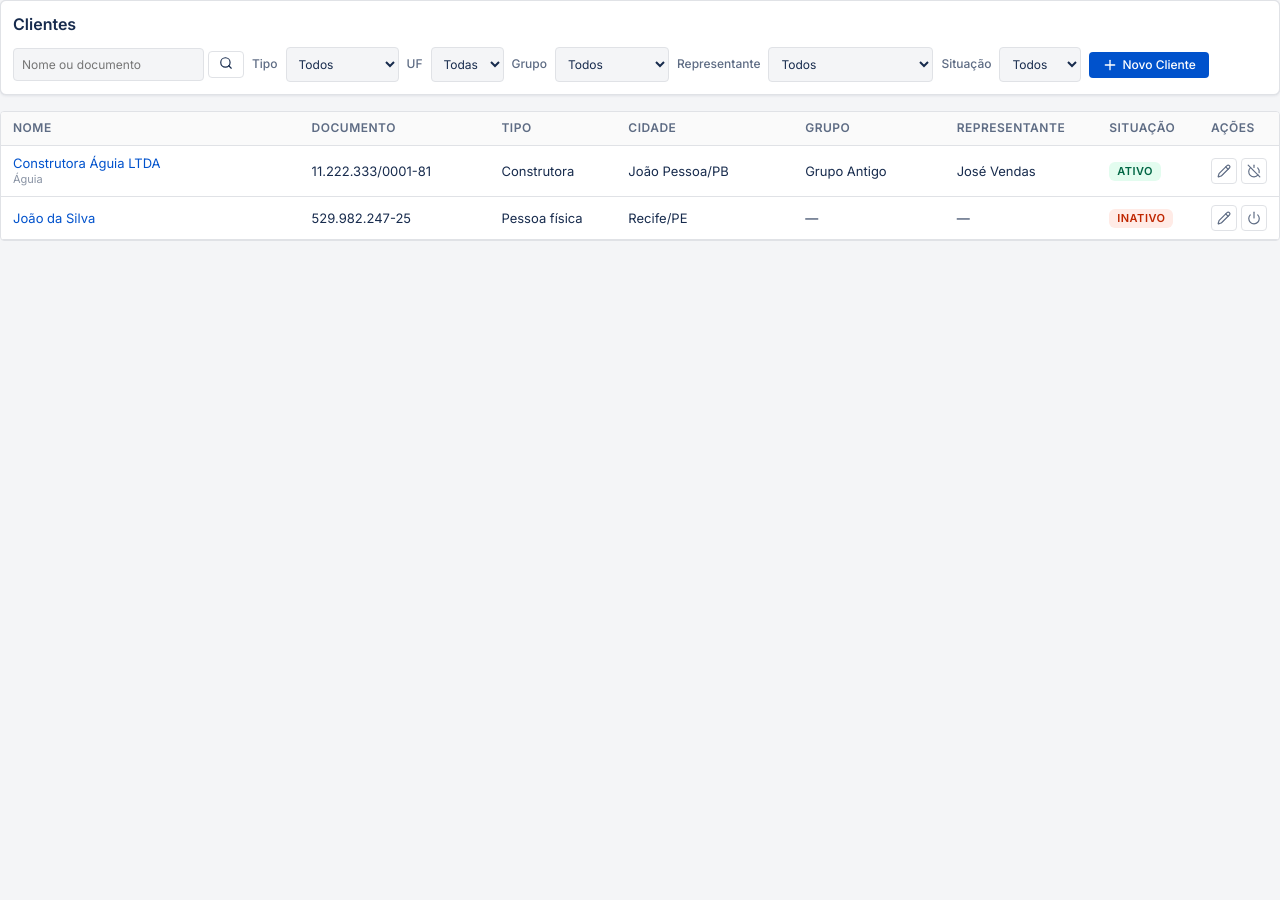
it: Clientes › mostra o documento repetido como erro do formulário sem perder o que foi digitado
Expected: the link "Construtora Águia LTDA" is shown, [13,155,161,171]
Click the button "Novo Cliente" at (1149, 65), box [1090,52,1209,78]
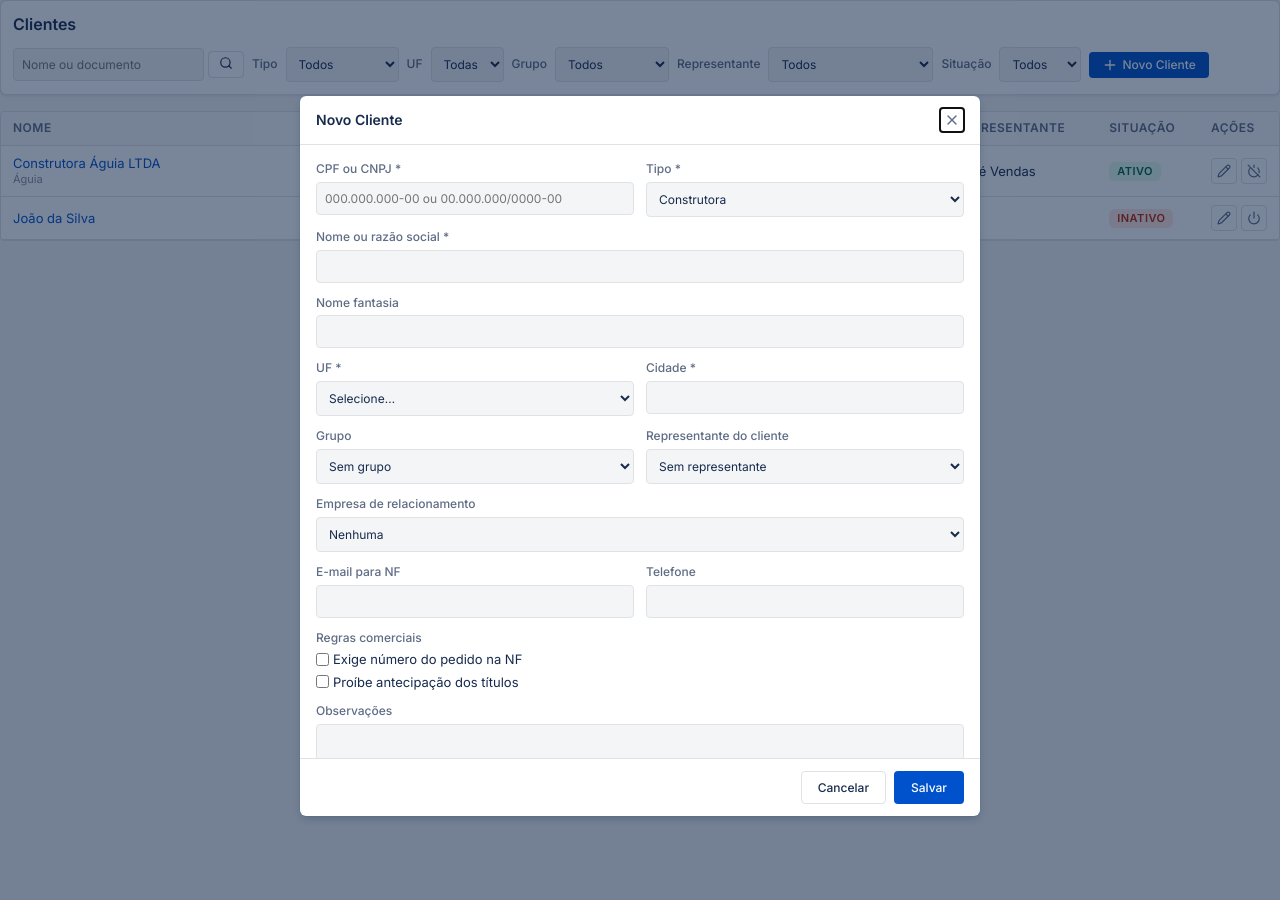
Type "11222333000181" into the field labelled "CPF ou CNPJ *" at (475, 198), box [316,182,634,215]
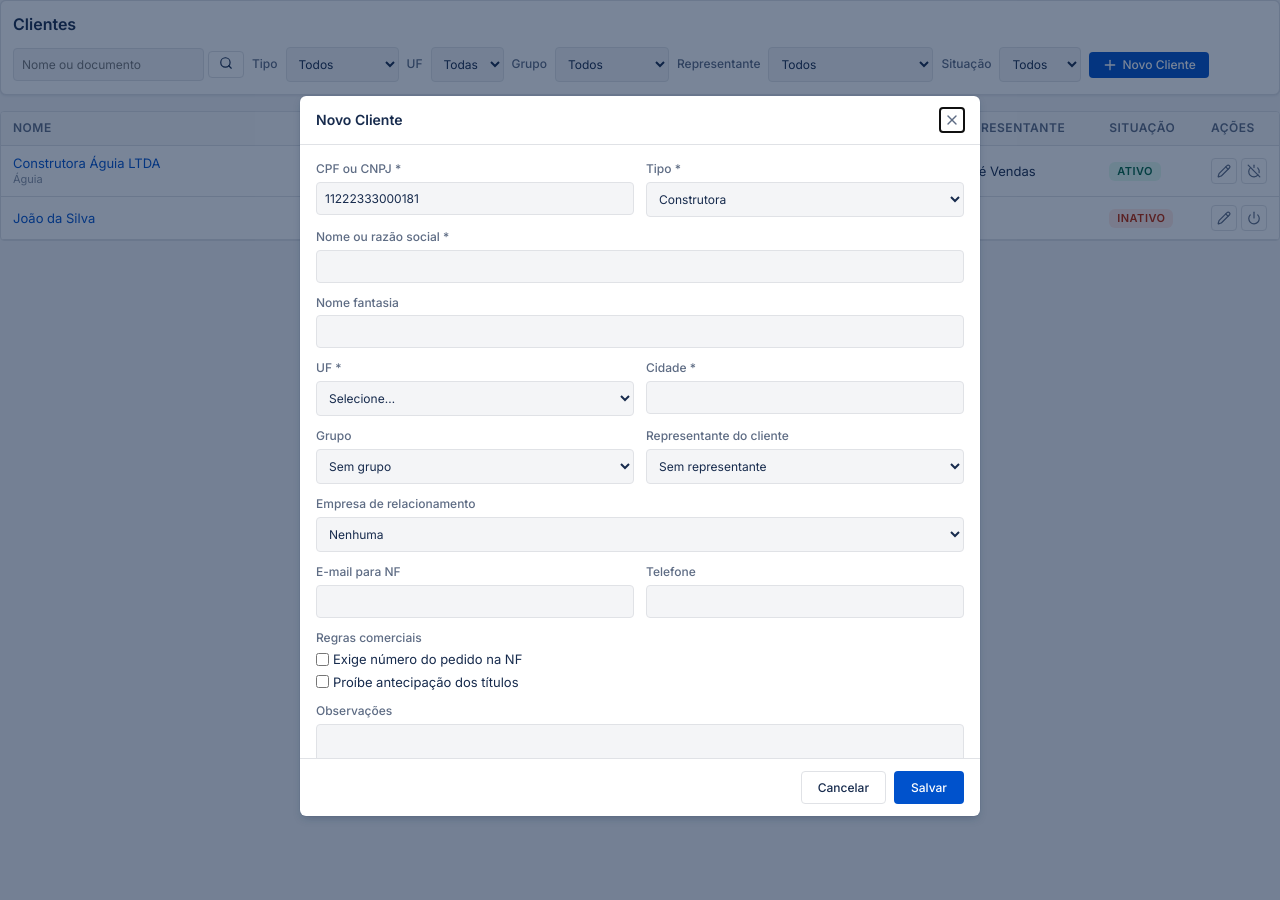
Type "Águia" into the field labelled "Nome ou razão social *" at (640, 266), box [316,250,964,283]
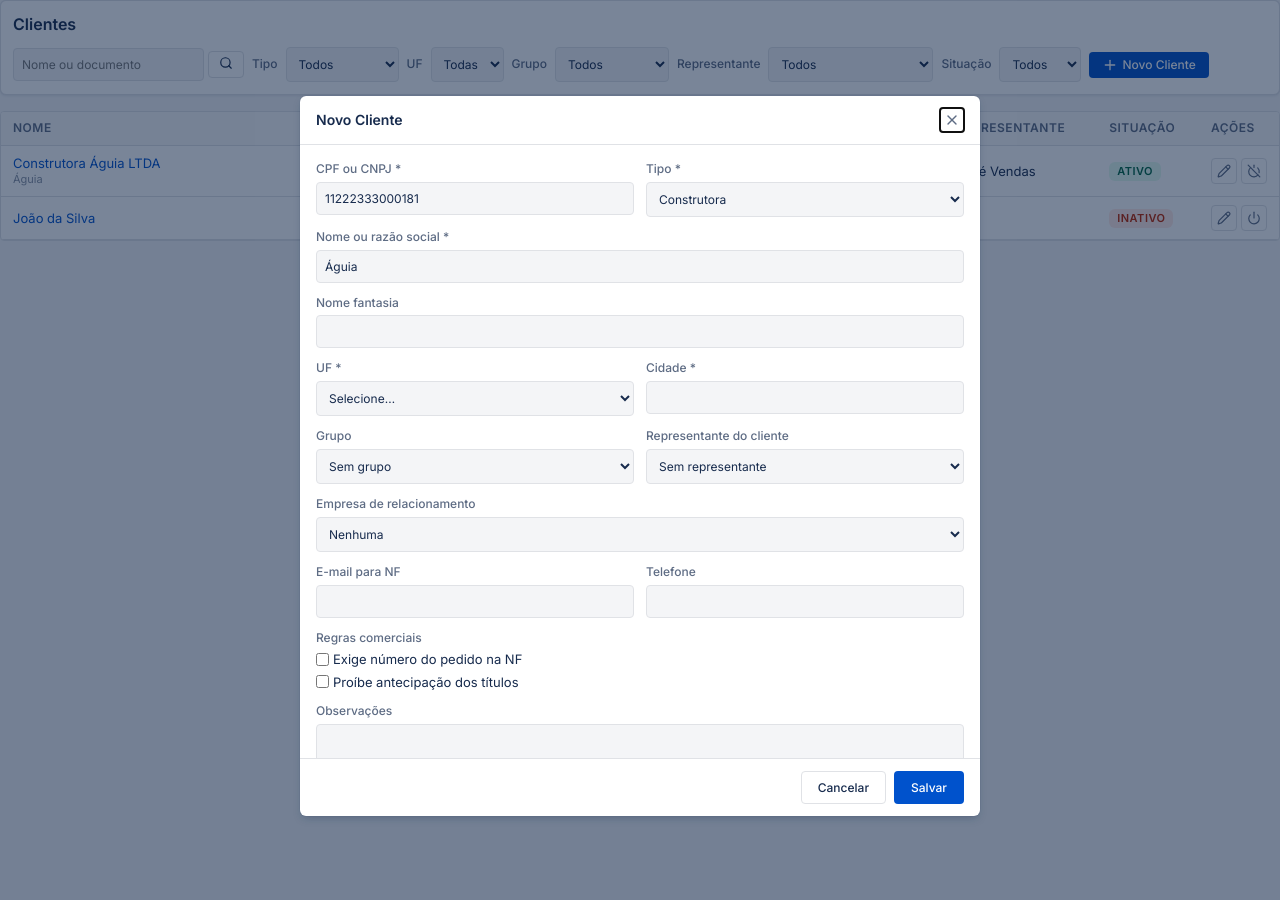
Select "PB" in the dropdown labelled "UF *" at (475, 399), box [316,381,634,416]
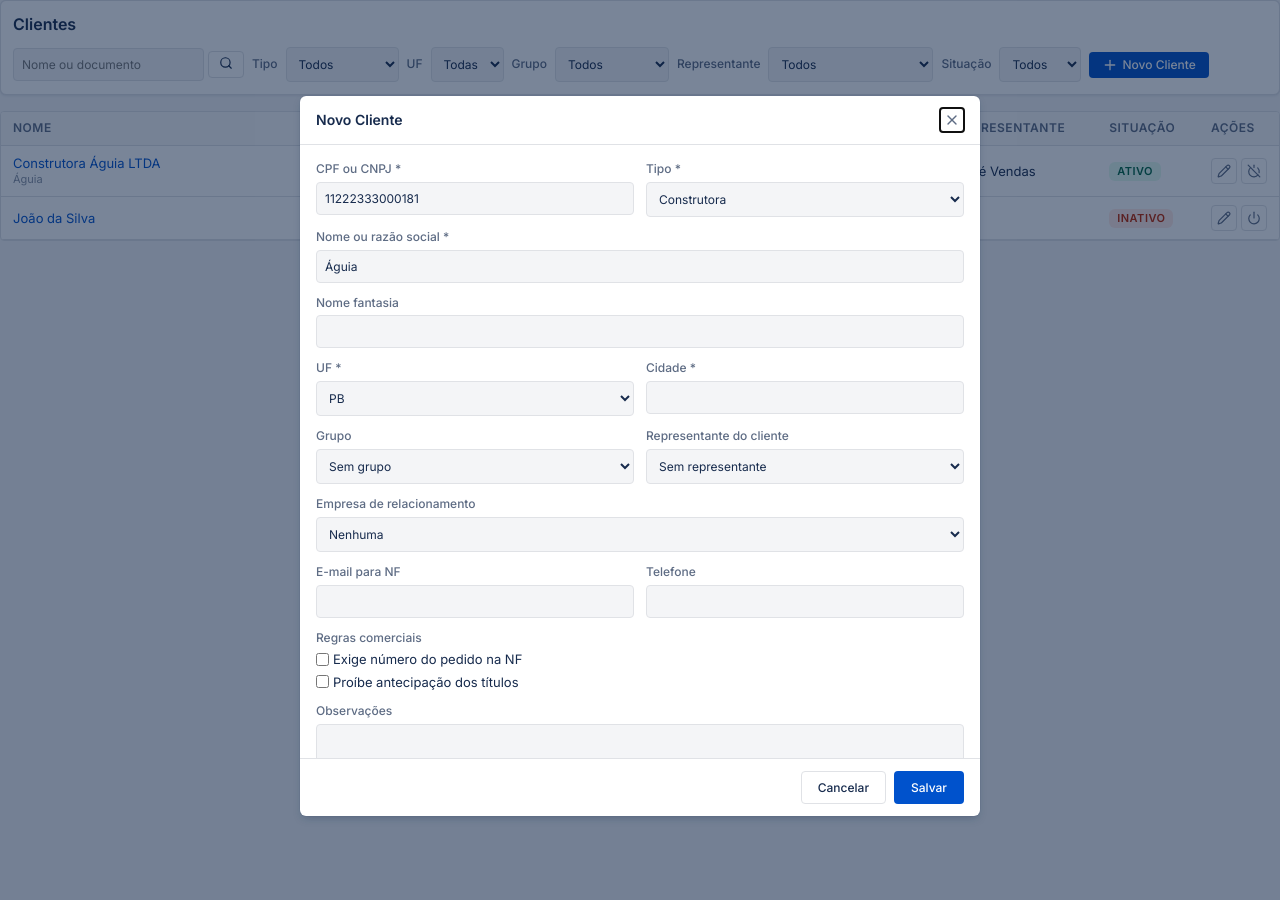
Type "João Pessoa" into the field labelled "Cidade *" at (805, 398), box [646,381,964,414]
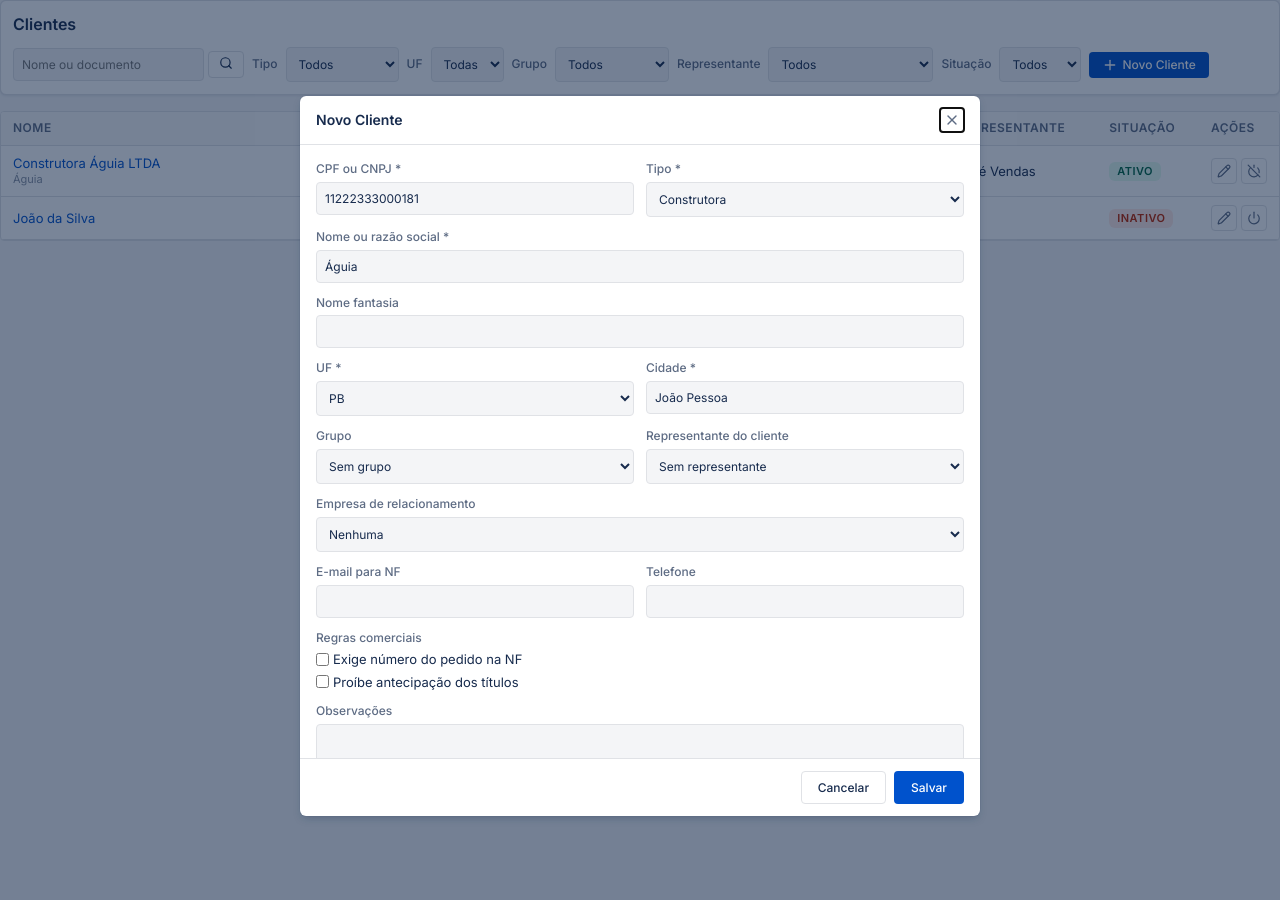
Click the button "Salvar" at (929, 788), box [894,771,964,804]
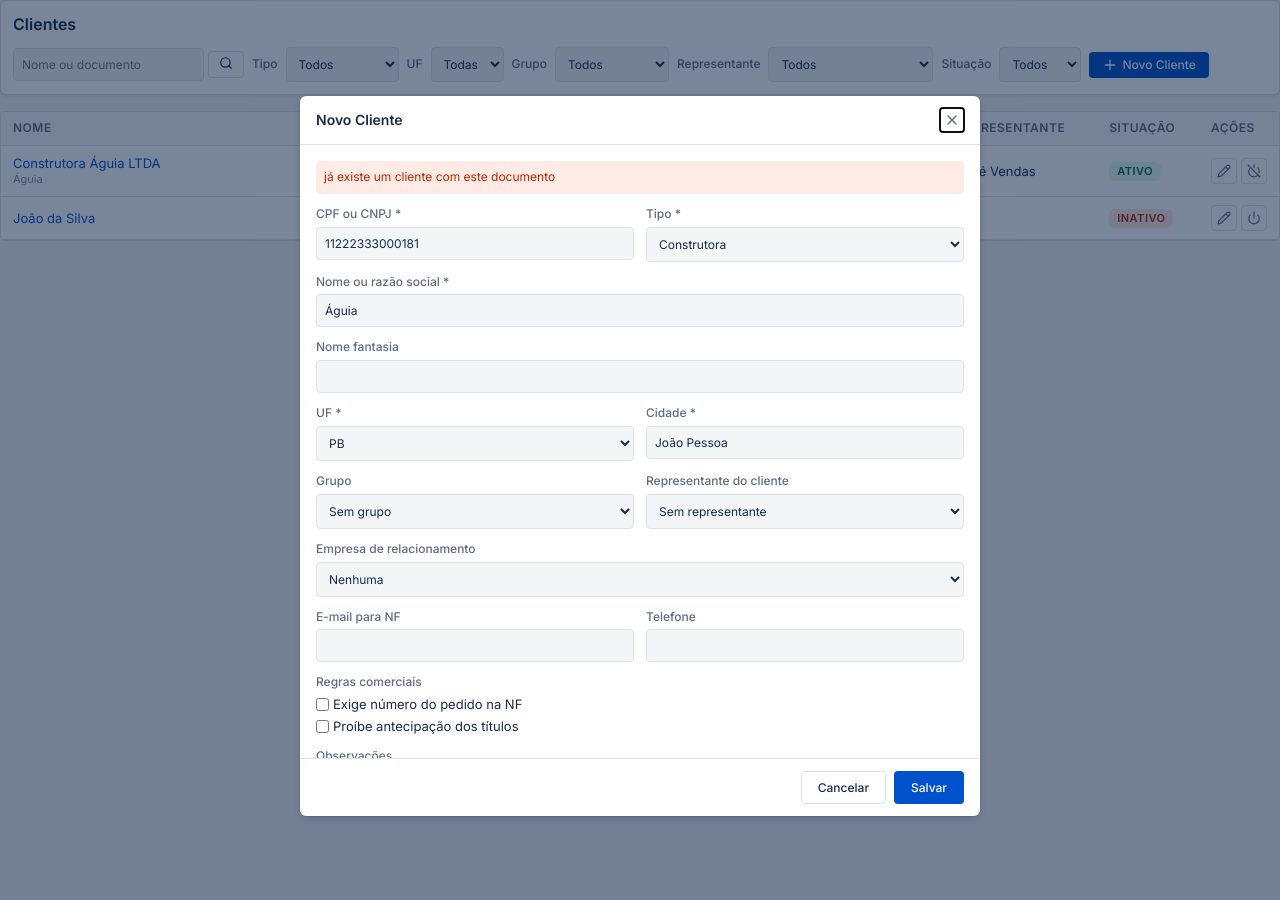
Now the text "já existe um cliente com este documento" is shown, box [316,161,964,194]
